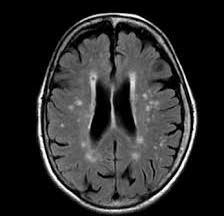Normal_Brain: (16, 1, 209, 216)
